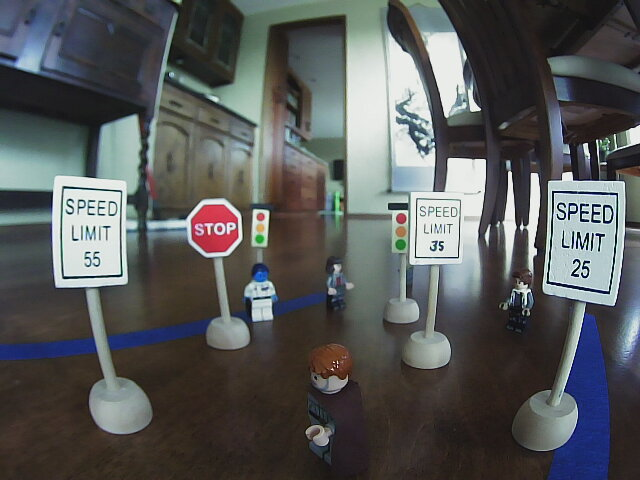SpeedLimit25: (548, 182, 616, 302)
SpeedLimit35: (408, 191, 462, 266)
SpeedLimit55: (52, 171, 124, 286)
StopSign: (187, 202, 240, 254)
TrafficLight: (386, 200, 407, 255), (249, 199, 272, 248)
person: (298, 343, 372, 472), (493, 261, 536, 331), (242, 263, 278, 325), (325, 256, 356, 309)
